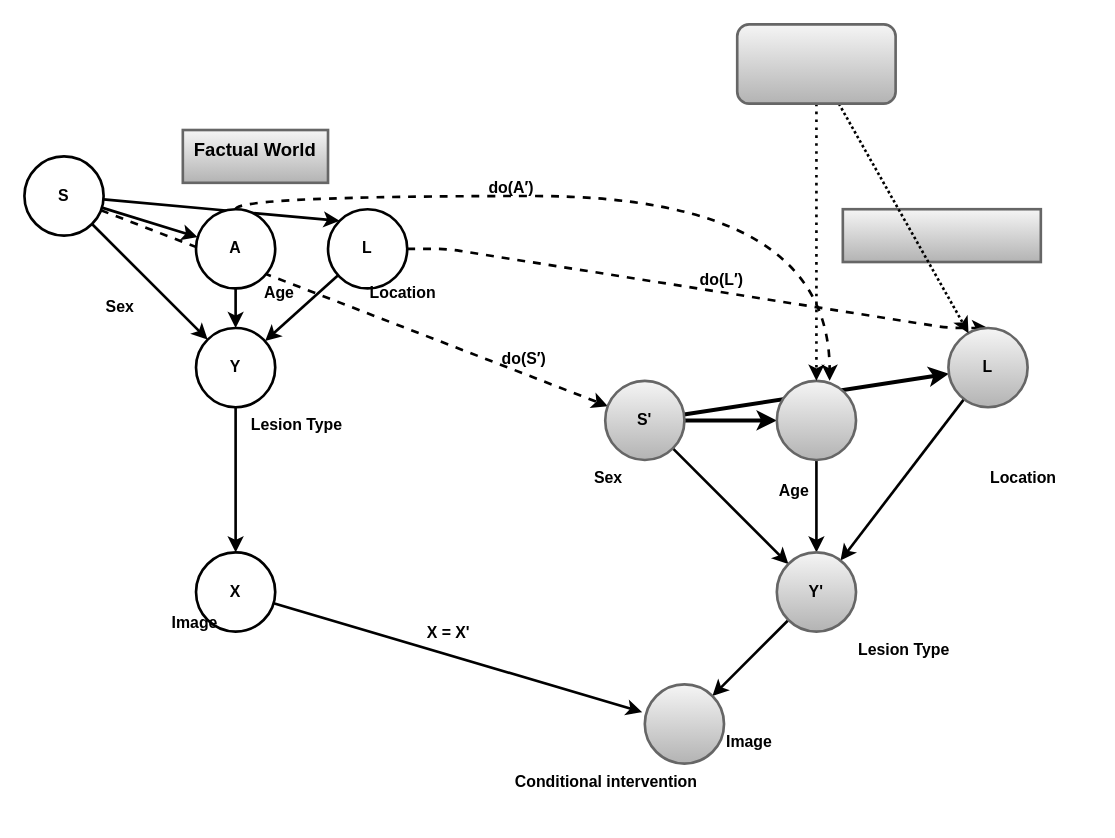
The diagram is 1115 pixels wide and 838 high, and some of its shapes have lost their labels. The shapes that lost their labels are listed below. From the top down, each one's centre as x and y in pixels, then its label:
At (x=815, y=63): "DY : Constraints".
At (x=941, y=235): "Counterfactual world".
At (x=816, y=420): "A'".
At (x=684, y=723): "X'".
